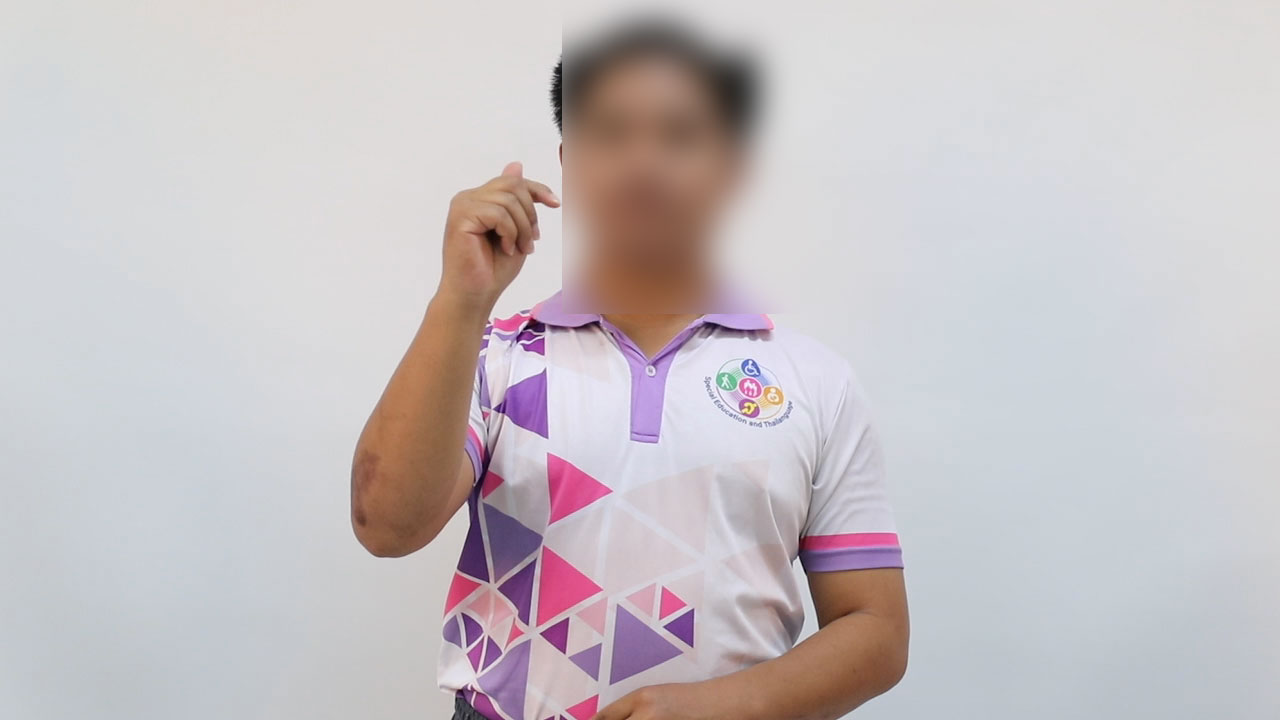tor: (411, 143, 581, 322)
